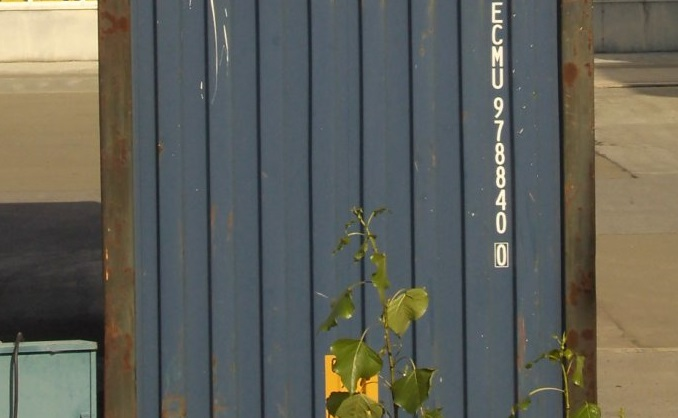container_no_door: (101, 1, 595, 418)
